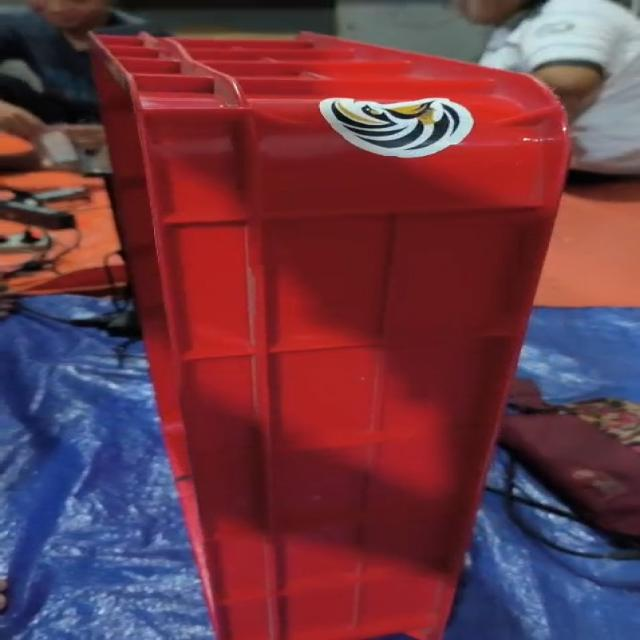red plastic box: (89, 32, 572, 639)
